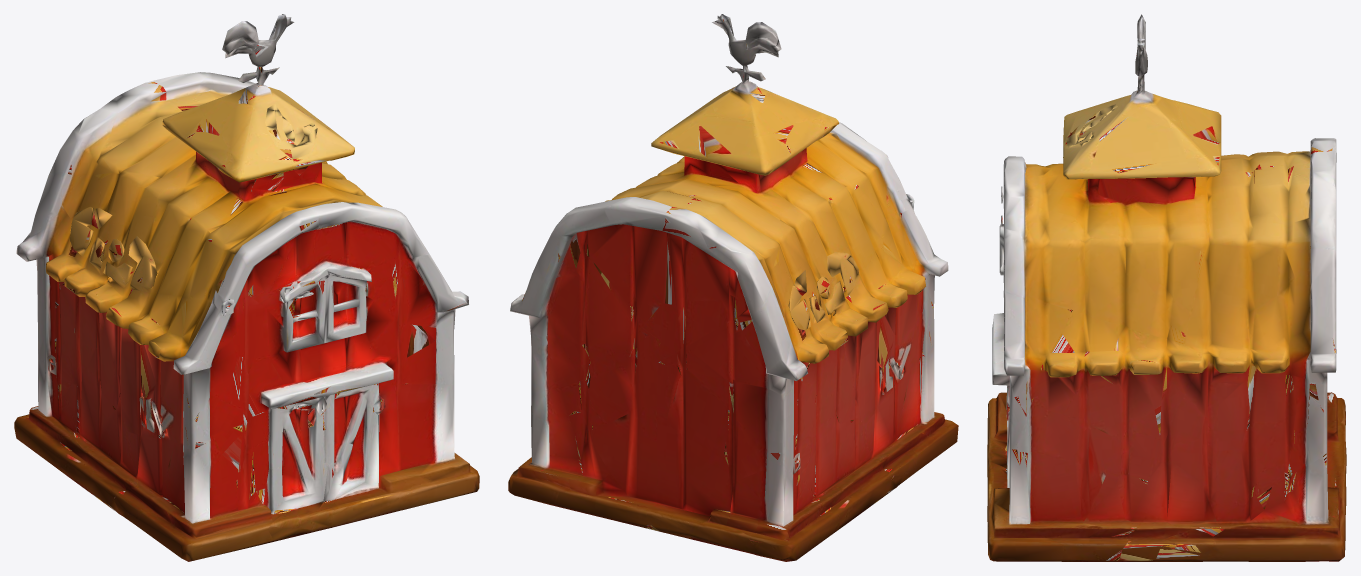
Rendered from barn.glb.
3 views of the same model, side by side, from view 1: azimuth 30°, elevation 25°; view 2: azimuth 150°, elevation 25°; view 3: azimuth 270°, elevation 25° (orthographic). The views are drawn at different scales.
Parts seen in each view (by area): view 1: prop; view 2: prop; view 3: prop.
Boxes of the visible parts, box(x1,y1,x2,y2) form: prop: box(14, 14, 479, 561); prop: box(508, 14, 958, 561); prop: box(987, 14, 1346, 561).
Size of the model in its own units: 0.6835 by 1 by 0.7003.
1 material, 1 textured.
